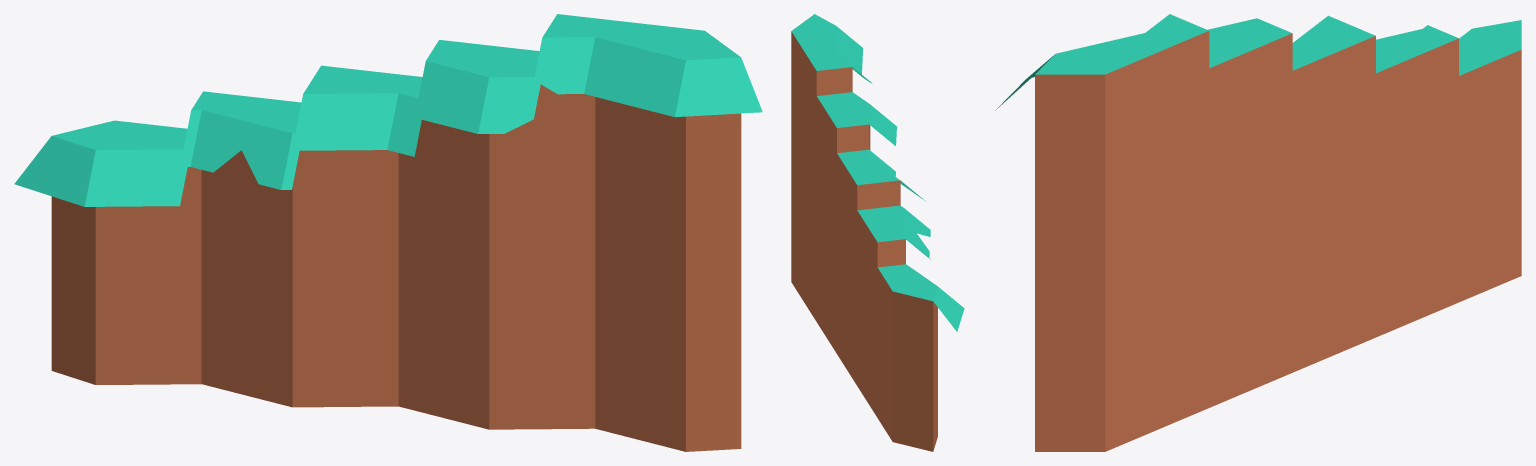
The model's file is cliff_stairBorderDiagonal_upper_right_rock.fbx.
3 renders of one model, left to right at view 1: azimuth 30°, elevation 25°; view 2: azimuth 150°, elevation 25°; view 3: azimuth 270°, elevation 25°, orthographic. The views are drawn at different scales.
Visible parts, largest first — view 1: cliff_topDiagonal_rock; view 2: cliff_topDiagonal_rock; view 3: cliff_topDiagonal_rock.
Part boxes in pixels (bbox=[...]): cliff_topDiagonal_rock: bbox=[14, 14, 762, 451]; cliff_topDiagonal_rock: bbox=[791, 14, 964, 451]; cliff_topDiagonal_rock: bbox=[995, 14, 1521, 451].
Size of the model in its own units: 12.68 by 10 by 12.68.
